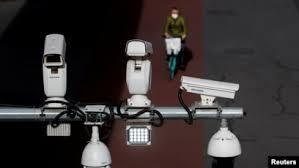tutu: (38, 24, 78, 125), (173, 71, 246, 116), (122, 33, 160, 113)
